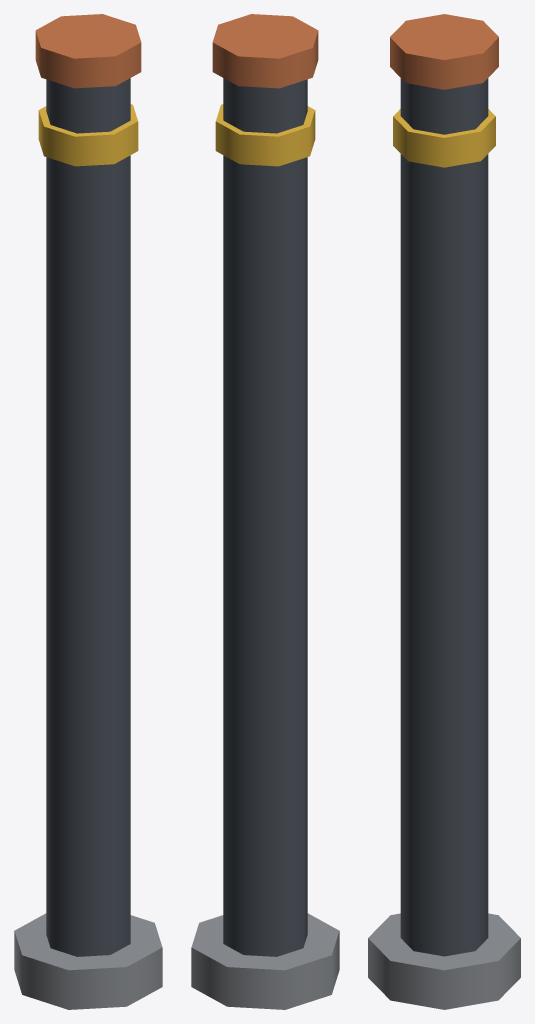
The model's file is fence-pipe-post.lod1.glb.
3 renders of one model, left to right at view 1: azimuth 30°, elevation 25°; view 2: azimuth 150°, elevation 25°; view 3: azimuth 270°, elevation 25°, orthographic.
Visible parts, largest first — view 1: fence-pipe-post_lod1; view 2: fence-pipe-post_lod1; view 3: fence-pipe-post_lod1.
Boxes of the visible parts, x1=… form: fence-pipe-post_lod1: x1=14, y1=14, x2=162, y2=1009; fence-pipe-post_lod1: x1=191, y1=14, x2=339, y2=1009; fence-pipe-post_lod1: x1=368, y1=14, x2=520, y2=1009.
Bounding box in the file's own units: 0.14 × 0.95 × 0.14.
